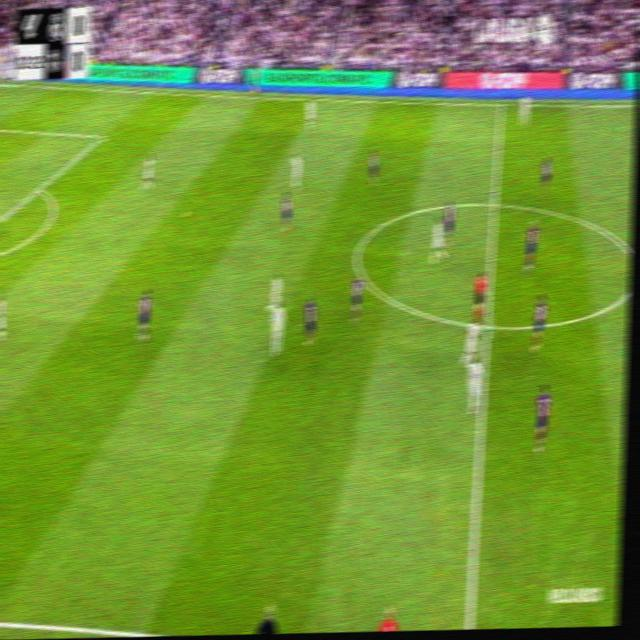bigarea_top_inner: (95, 128, 107, 144)
corner: (0, 77, 8, 87)
halfcircle_bottom: (480, 313, 494, 339)
halfcircle_top: (487, 191, 503, 216)
midline_top_intersection: (496, 97, 506, 112)
top_arc_area_intersection: (33, 179, 45, 196)
